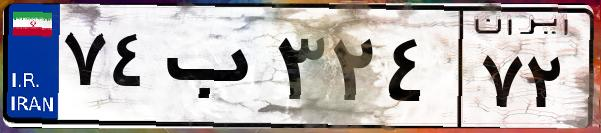2: (330, 28, 385, 110), (525, 38, 570, 115)
3: (270, 28, 330, 110)
4: (385, 28, 445, 110), (110, 28, 158, 98)
7: (57, 26, 110, 100), (475, 38, 525, 113)
ب: (158, 20, 270, 120)
